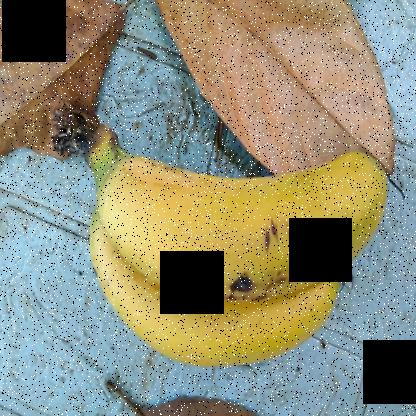freshripe: (133, 298, 343, 368)
ripe: (88, 68, 415, 303)
